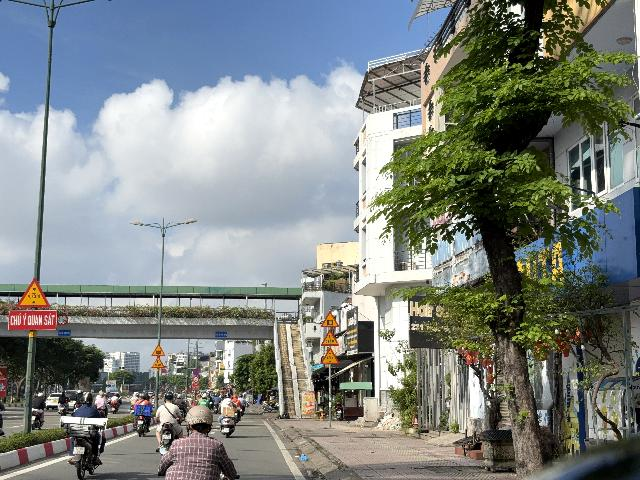chieu-cao-tinh-khong-thuc-te: (16, 277, 50, 307), (321, 347, 340, 364)
di-cham: (321, 329, 339, 346), (151, 356, 165, 369)
han-che-chieu-cao: (57, 313, 68, 325)
noi-giao-nhau-voi-duong-sat-co-rao-chan: (321, 311, 339, 327), (151, 344, 166, 356)
